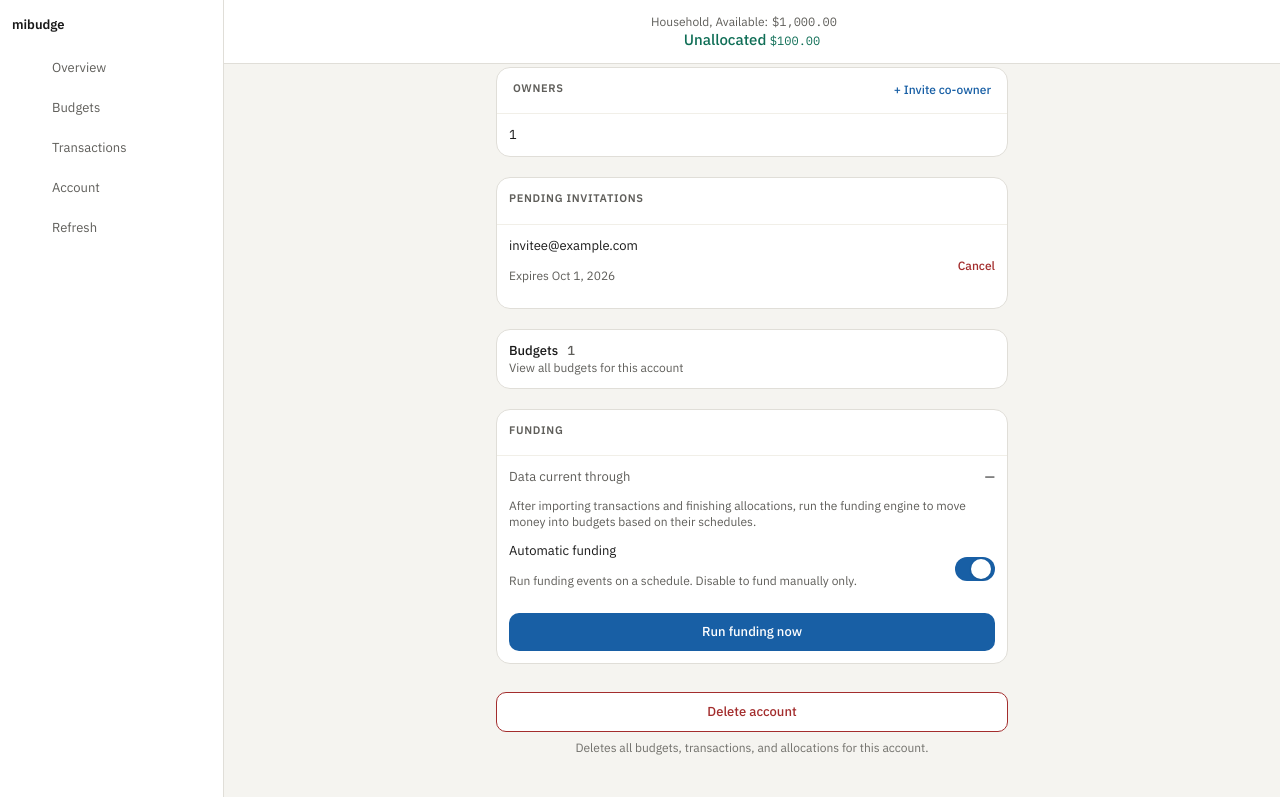
Test case: bank-account pages › shows why automatic funding did not change
This screenshot has width=1280, height=797.
(page scrolled)
Click the switch.
click(752, 572)  # box x1=509 y1=542 x2=995 y2=601
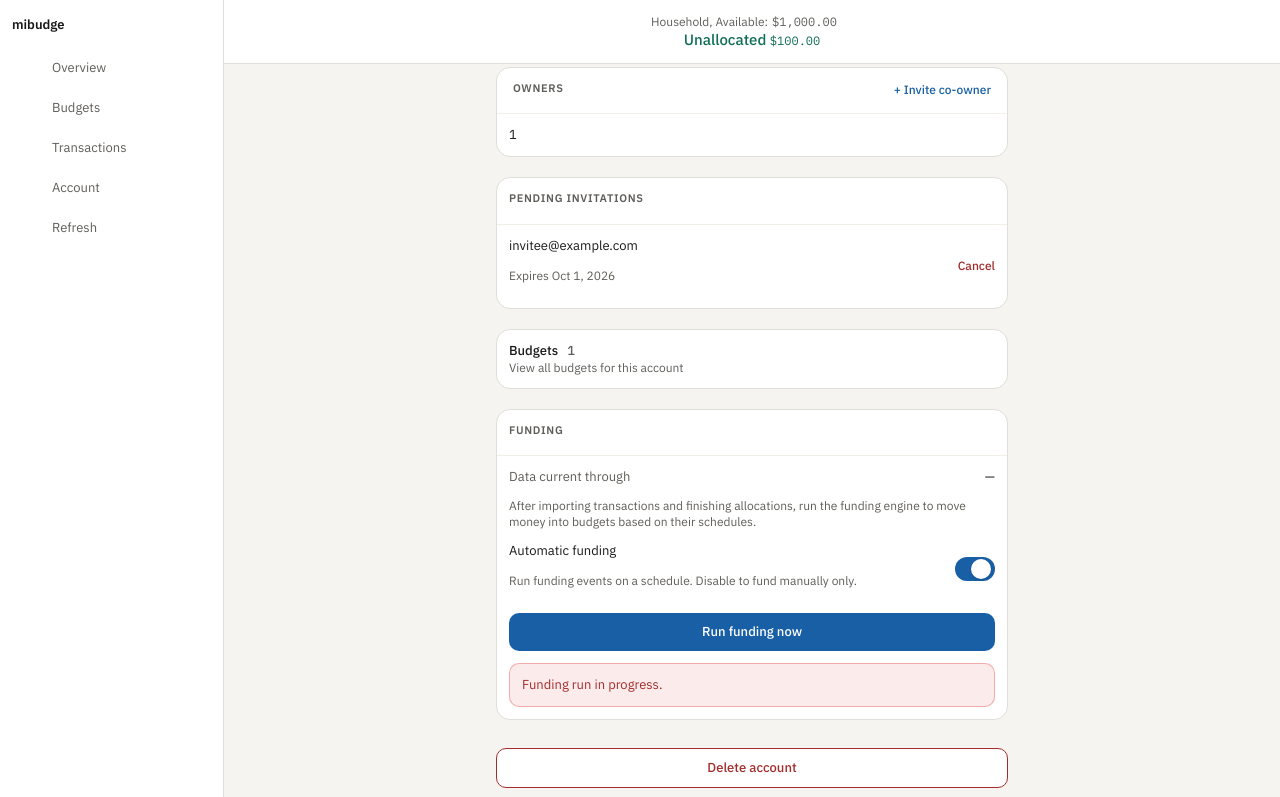
Now the text "Funding run in progress." is shown, box x1=509 y1=663 x2=995 y2=707
